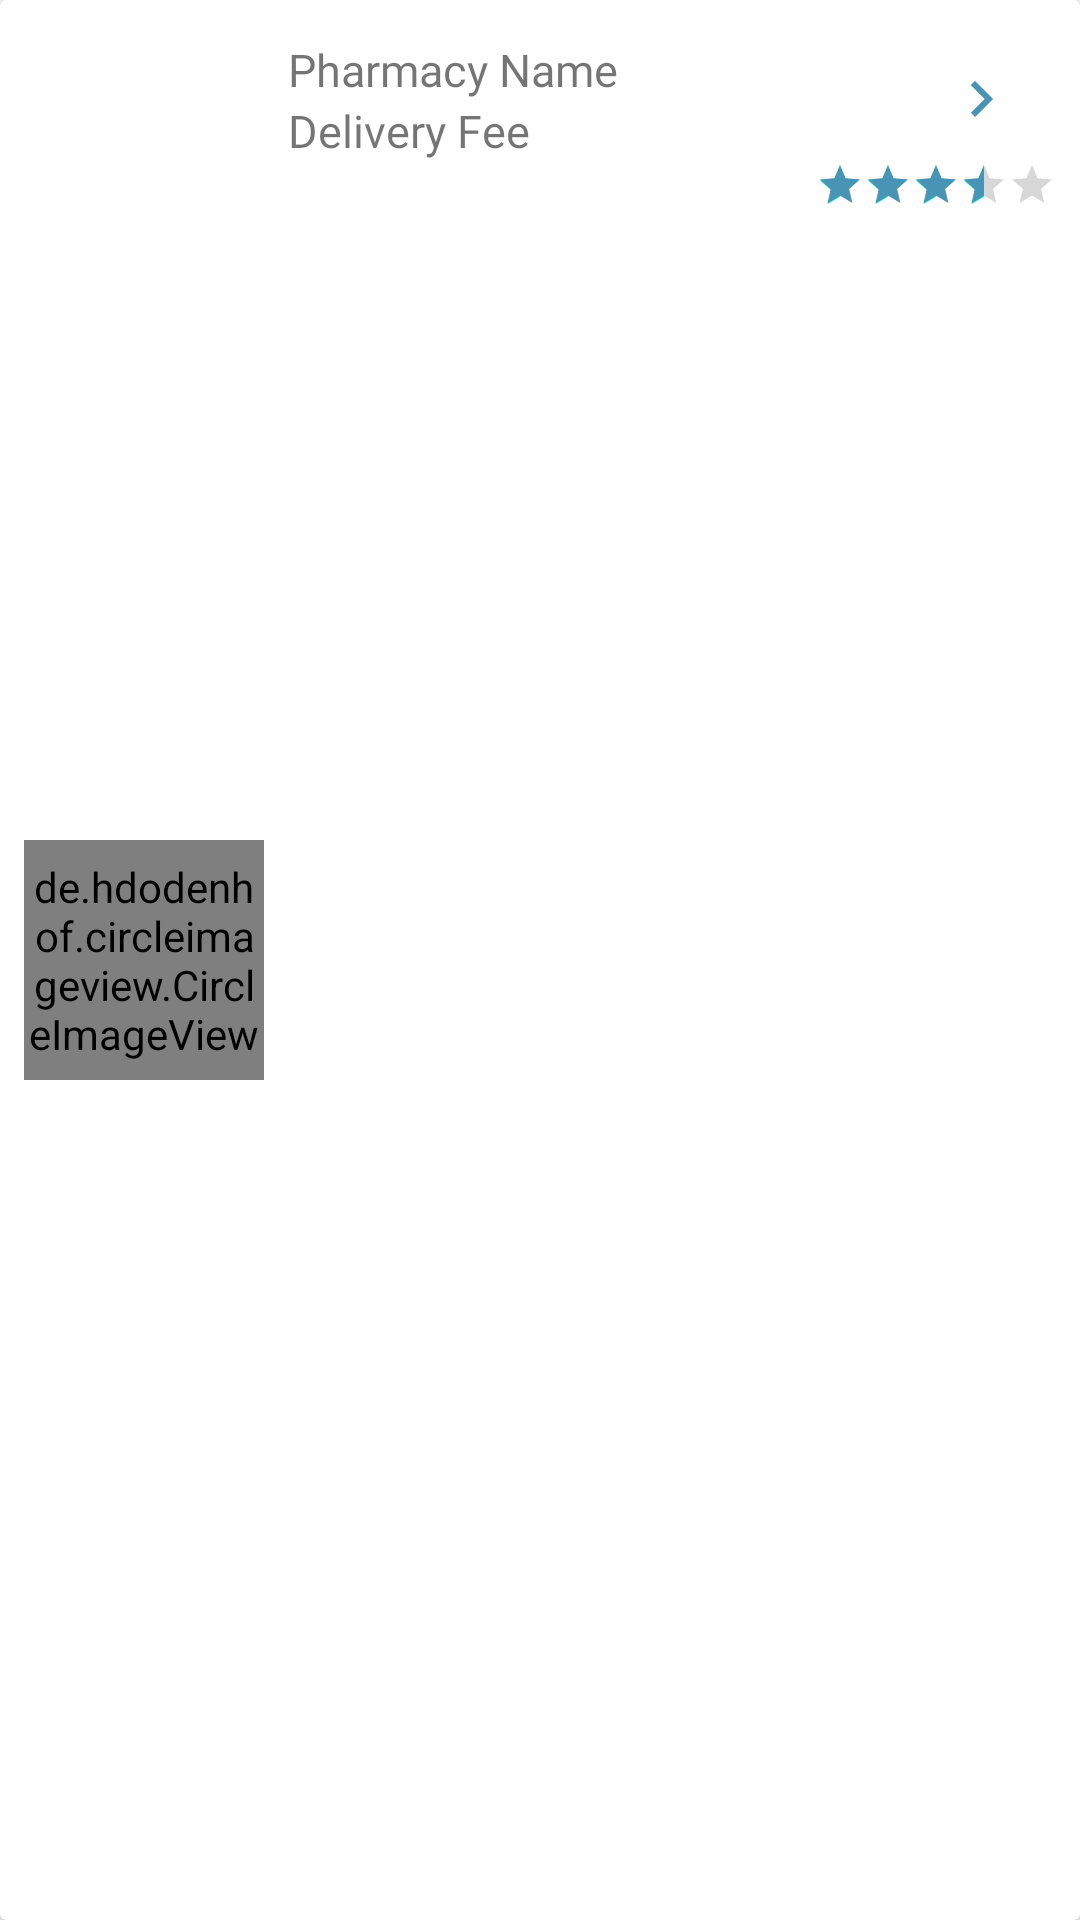

Icons on this 1080px×1920px Android screen, each with the point to tap as point (x, y):
arrow right: point (982, 99)
